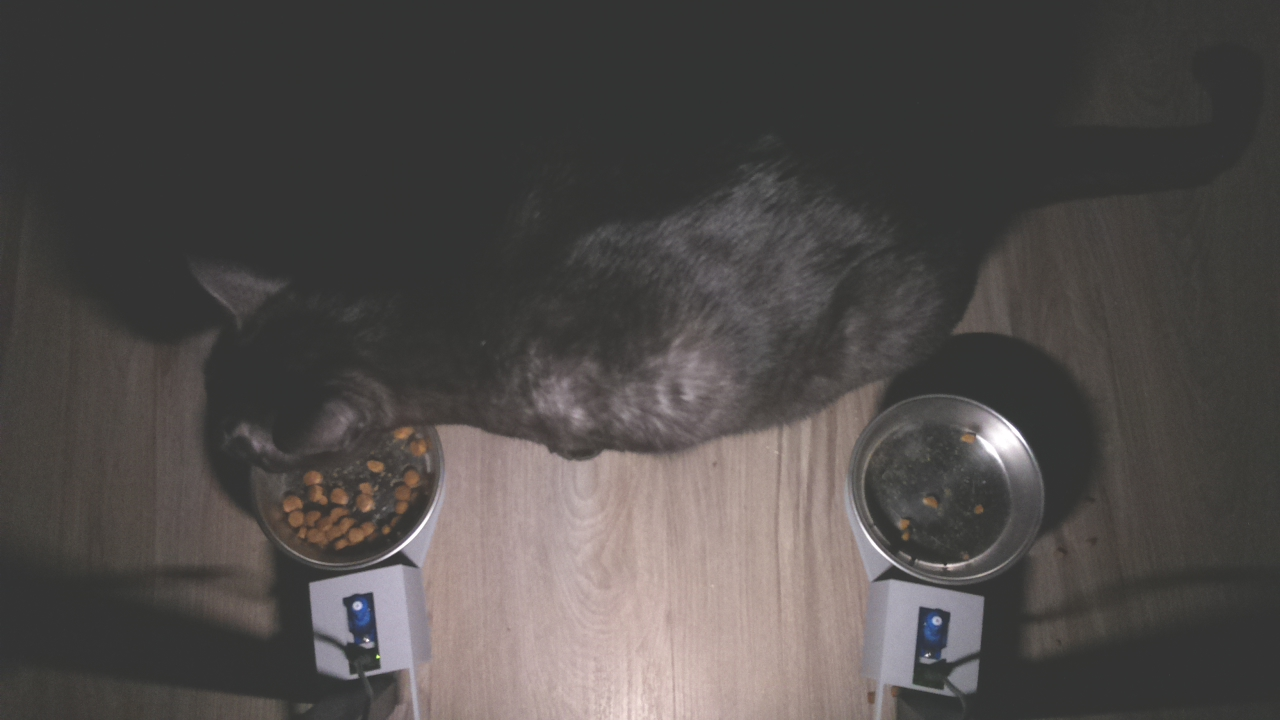open_bowl: (847, 386, 1058, 586), (247, 415, 445, 577)
saki: (162, 241, 427, 476)
